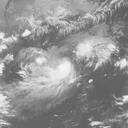cyclone: (18, 57, 77, 102)
